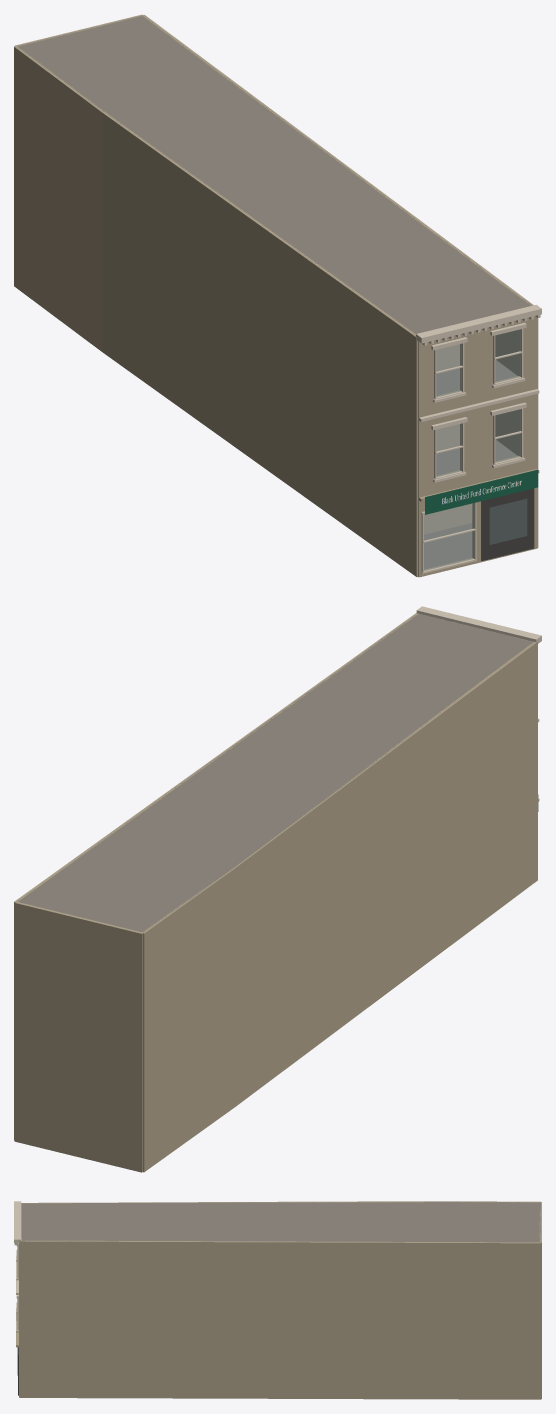
The picture shows the model from 3 angles, top to bottom: view 1: azimuth 30°, elevation 25°; view 2: azimuth 150°, elevation 25°; view 3: azimuth 270°, elevation 25°; orthographic projection. The views are drawn at different scales.
Visible parts, largest first — view 1: Shell, Roof, Facade floor 1, Facade floor 2, Facade floor 0, Floor 0, Sign, Cornice, Floor 1, Floor 2; view 2: Shell, Roof, Cornice; view 3: Shell, Roof, Cornice.
Boxes of the visible parts, box(x1,y1,x2,y2) form: Shell: box(14, 14, 538, 576); Roof: box(17, 15, 531, 335); Facade floor 1: box(418, 389, 539, 497); Facade floor 2: box(418, 316, 536, 417); Facade floor 0: box(418, 469, 539, 577); Floor 0: box(424, 503, 472, 569); Sign: box(425, 469, 538, 514); Cornice: box(416, 304, 541, 345); Floor 1: box(436, 424, 517, 475); Floor 2: box(436, 344, 516, 395); Shell: box(14, 613, 537, 1172); Roof: box(18, 614, 533, 932); Cornice: box(416, 606, 541, 643); Shell: box(19, 1201, 541, 1399); Roof: box(21, 1201, 540, 1242); Cornice: box(14, 1201, 21, 1245).
Bounding box in the file's own units: 5.74 × 10.07 × 30.44.
Materials: 7 (1 with a texture image).
